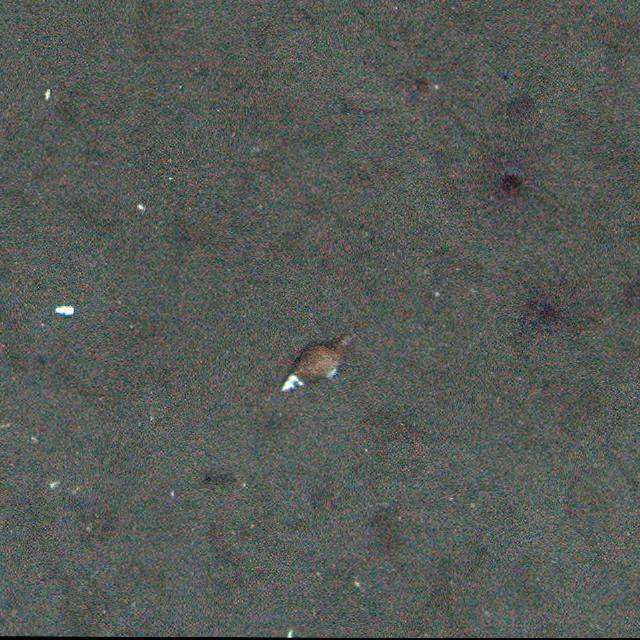whelk: (282, 333, 362, 388)
